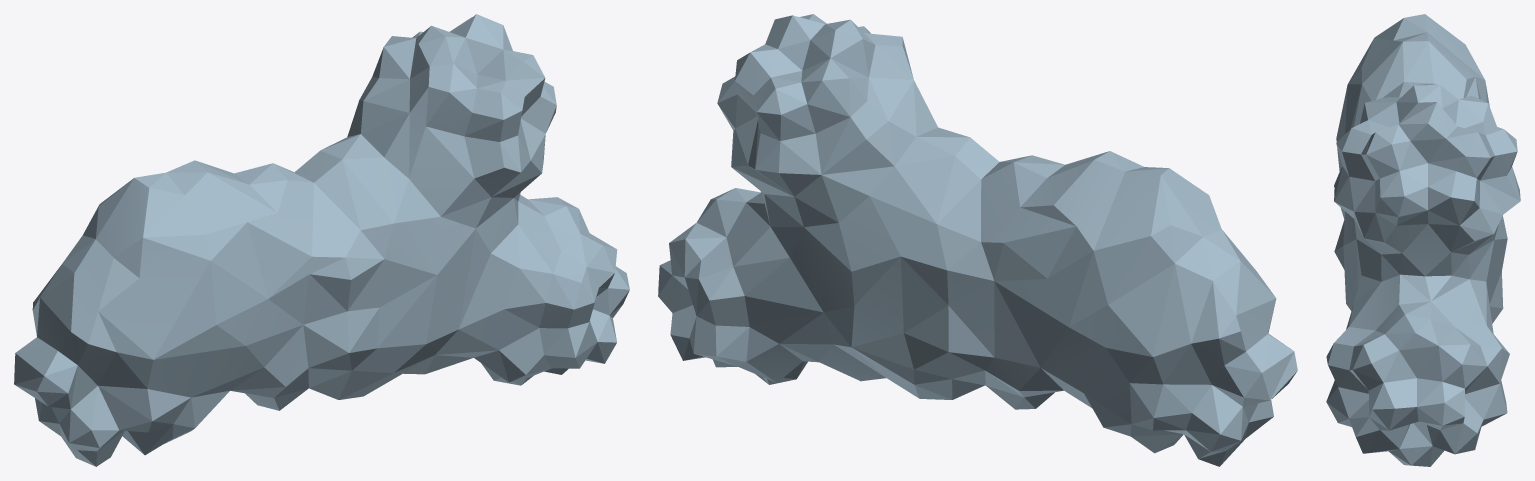
File: stylize_cloud_6.fbx
3 renders of one model, left to right at view 1: azimuth 30°, elevation 25°; view 2: azimuth 150°, elevation 25°; view 3: azimuth 270°, elevation 25°, orthographic. The views are drawn at different scales.
Visible parts, largest first — view 1: cloud_86; view 2: cloud_86; view 3: cloud_86.
Boxes of the visible parts, x1,y1,x2,y2 form: cloud_86: [14, 14, 629, 466]; cloud_86: [658, 14, 1297, 466]; cloud_86: [1326, 14, 1520, 466].
Size of the model in its own units: 633 by 375 by 197.
